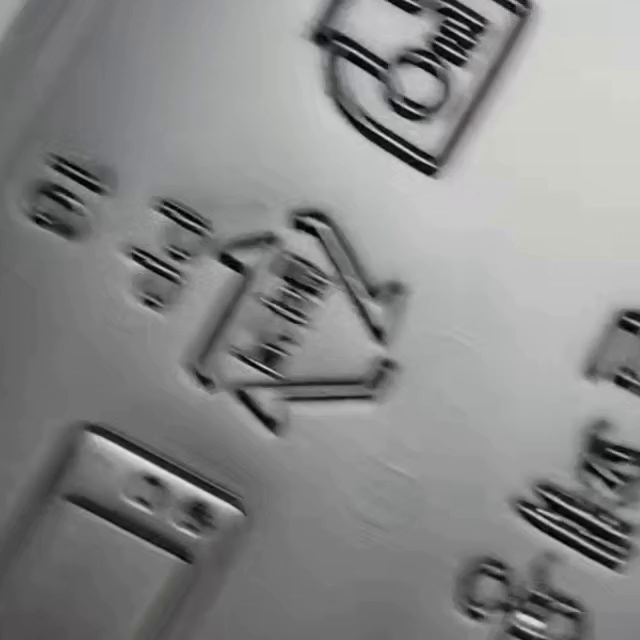Plastic: (185, 210, 406, 439)
